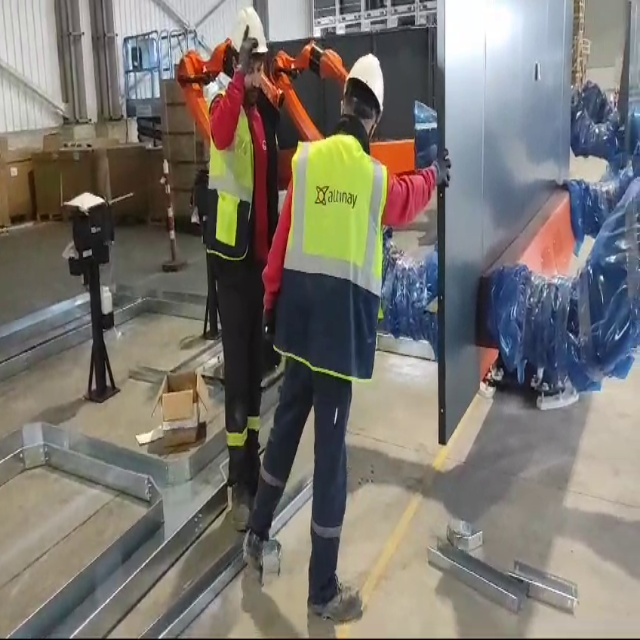safety_helmet: (341, 52, 385, 124), (230, 6, 268, 55)
